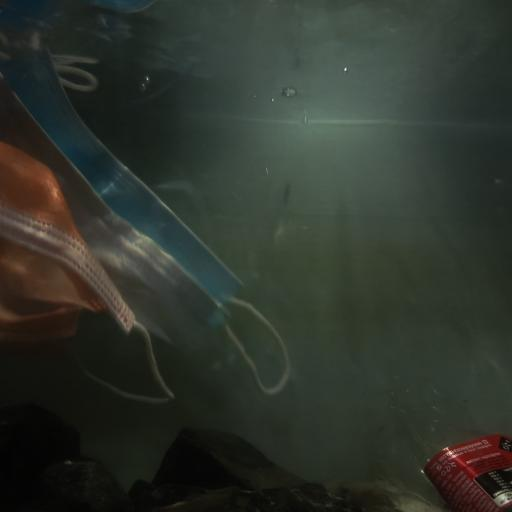mask: (0, 48, 296, 396), (0, 143, 176, 407)
plastic_bottle: (365, 374, 512, 512)
